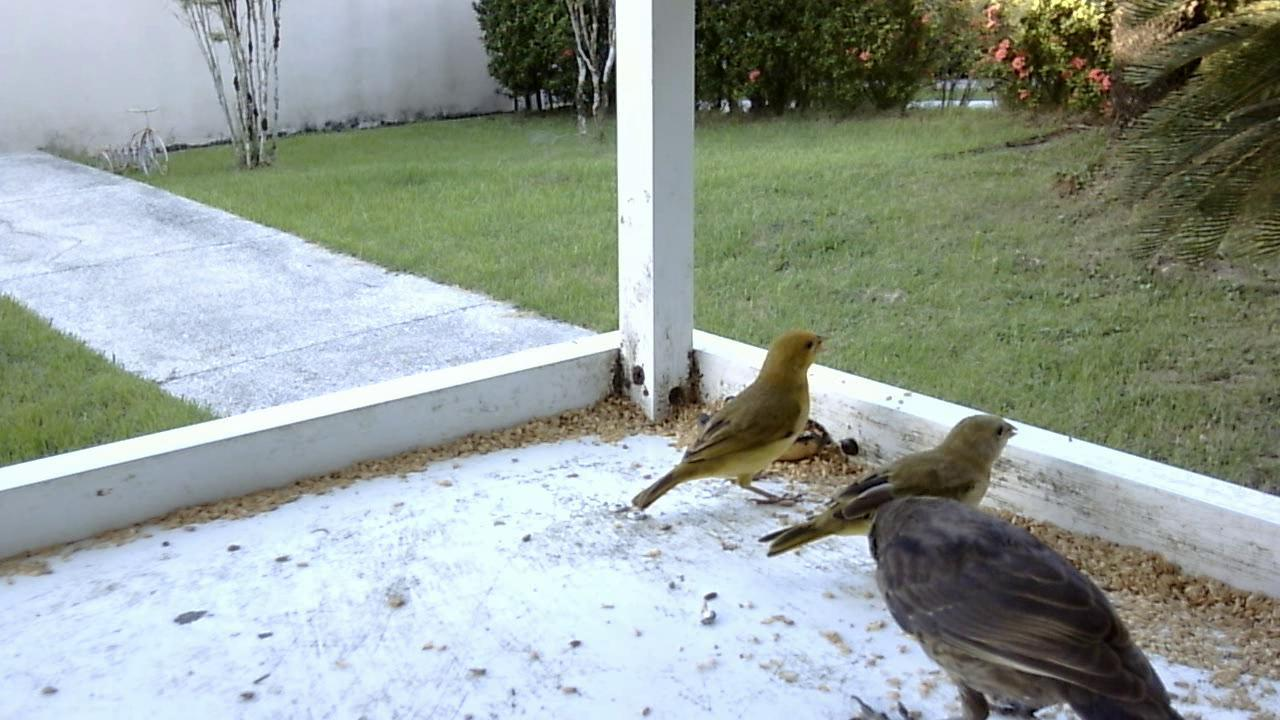canario_do_amazonas: (625, 329, 846, 523), (759, 404, 1024, 560)
chupim: (838, 483, 1221, 716)
